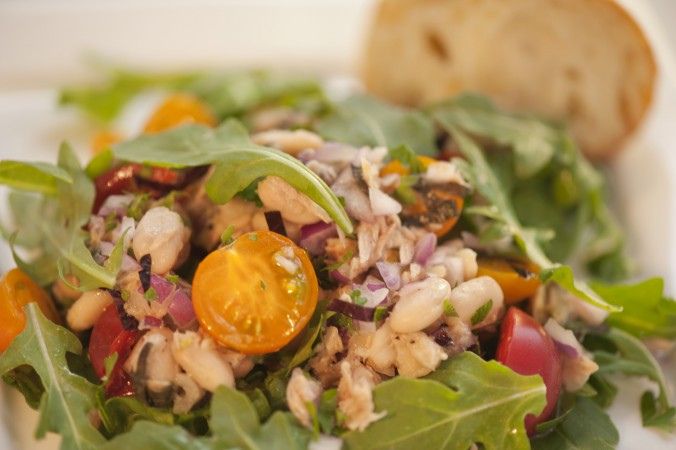chopped lettuce: (392, 93, 672, 334), (96, 336, 626, 450), (15, 167, 134, 450)
